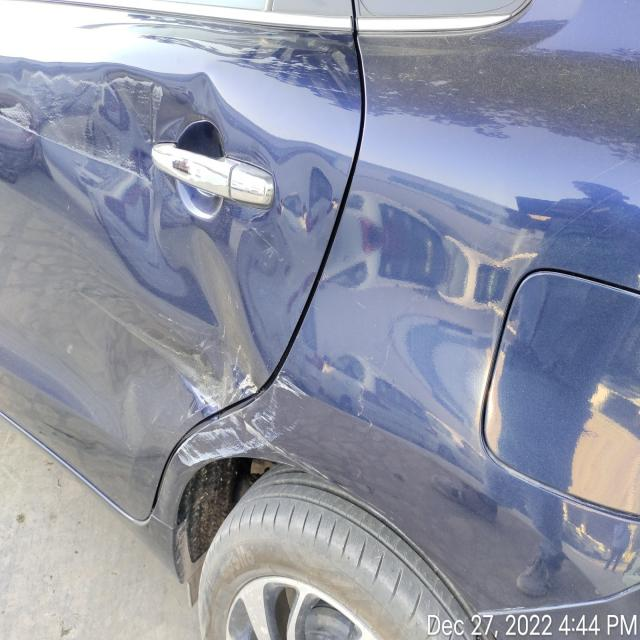damage: (90, 68, 280, 338), (349, 206, 486, 448), (0, 46, 158, 186), (174, 336, 280, 466)
